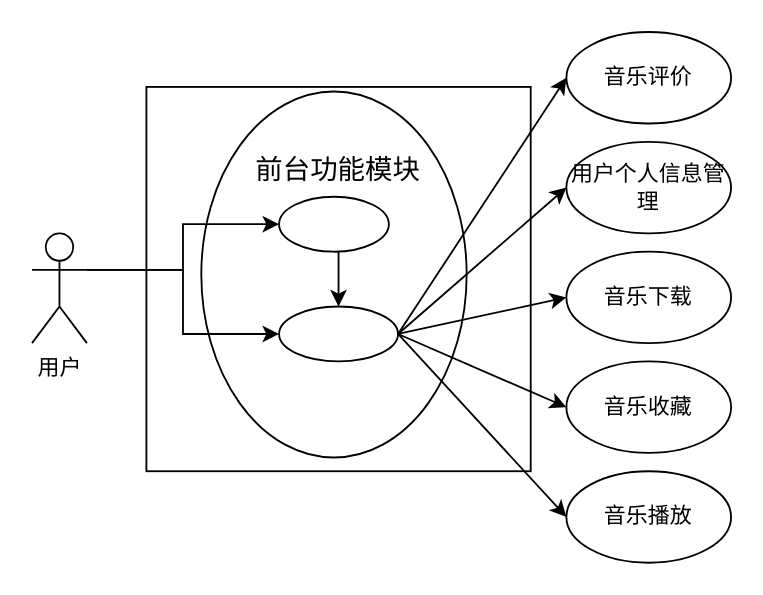
Some shapes in this 763 by 595 pixel diagram are drawn without their labels. The centre of each missing label's shape, as x and y in pixels:
"注册" belongs at [333,223].
"登录" belongs at [337,333].
